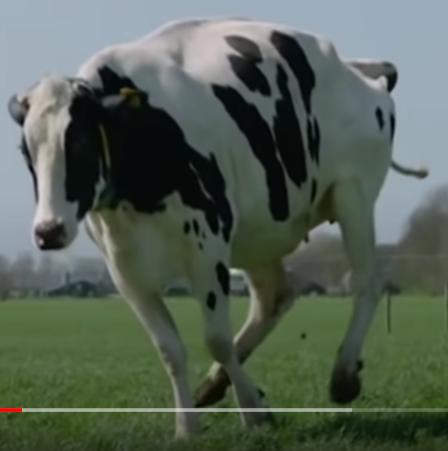cow: (9, 18, 398, 439)
